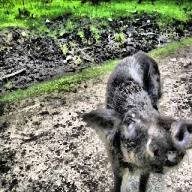boar: (82, 49, 192, 192)
